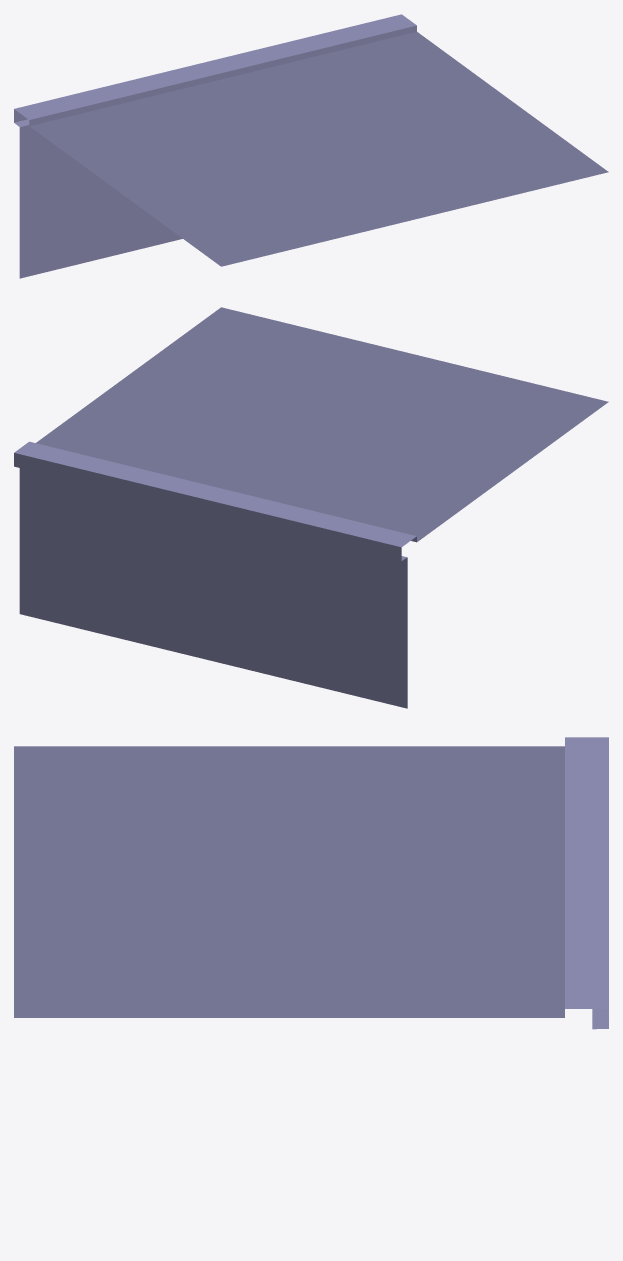
File: Wall_Side.fbx
3 renders of one model, top to bottom at view 1: azimuth 30°, elevation 25°; view 2: azimuth 150°, elevation 25°; view 3: azimuth 270°, elevation 25°, orthographic. The views are drawn at different scales.
Visible parts, largest first — view 1: Wall_Side; view 2: Wall_Side; view 3: Wall_Side.
Boxes of the visible parts, x1=… form: Wall_Side: x1=14, y1=14, x2=608, y2=278; Wall_Side: x1=14, y1=307, x2=608, y2=708; Wall_Side: x1=14, y1=737, x2=608, y2=1029.
Bounding box in the file's own units: 250 × 102 × 231.
